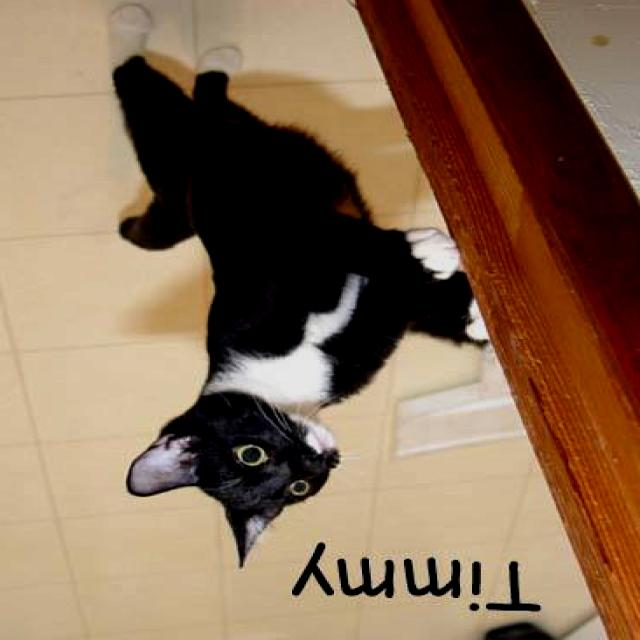Kucing: (41, 64, 527, 522)
